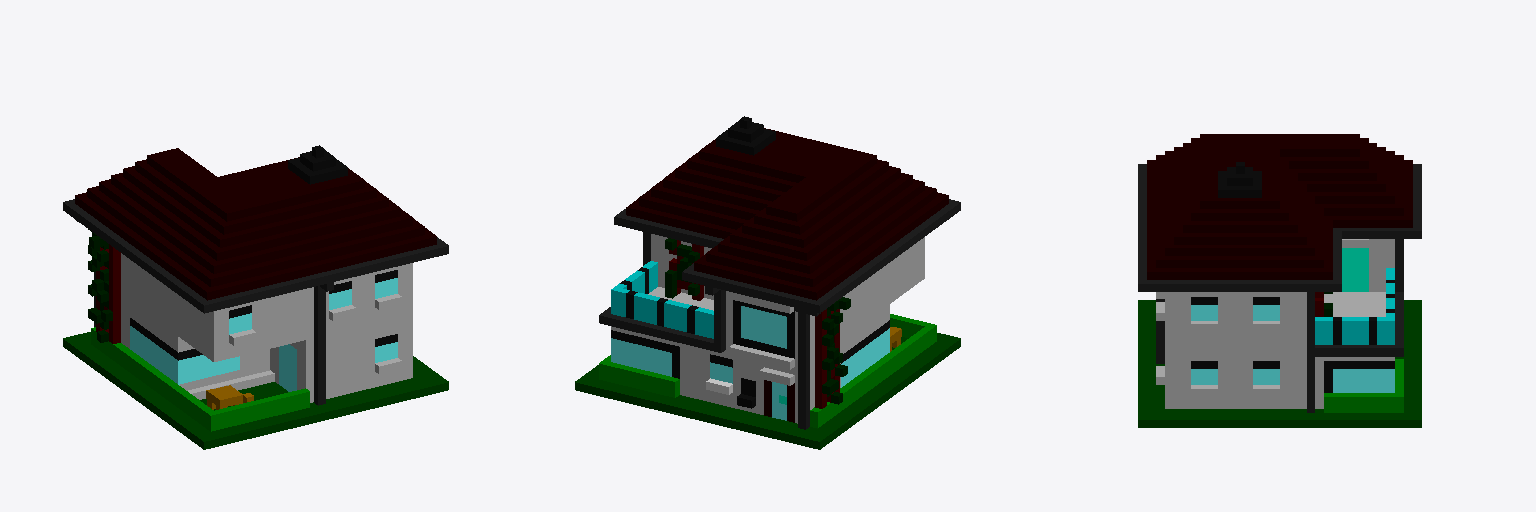
3 renders of one model, left to right at view 1: azimuth 30°, elevation 25°; view 2: azimuth 150°, elevation 25°; view 3: azimuth 270°, elevation 25°, orthographic.
Visible parts, largest first — view 1: HouseWin_Win; view 2: HouseWin_Win; view 3: HouseWin_Win.
Boxes of the visible parts, box(x1,y1,x2,y2) form: HouseWin_Win: box(63, 145, 448, 449); HouseWin_Win: box(575, 116, 960, 449); HouseWin_Win: box(1138, 134, 1421, 427).
Bounding box in the file's own units: 64 × 56 × 64.
Materials: 1 (1 with a texture image).